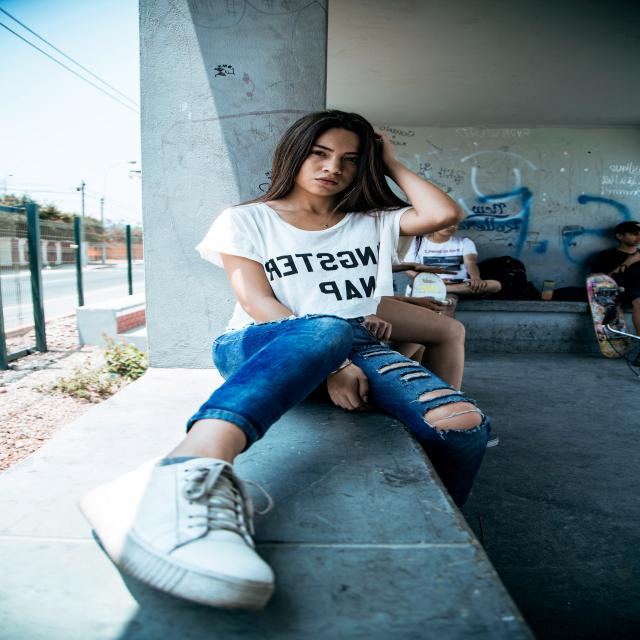adult: (94, 109, 487, 604)
